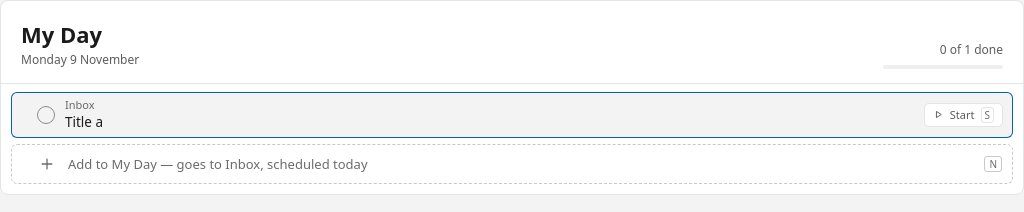
inline title edit › shows the new title at once, before the server answers
Check: the text "Monday 9 November" is shown, box [21,52,139,69]
Check: the text "Title a" is shown, box [65,113,103,132]
Press Enter
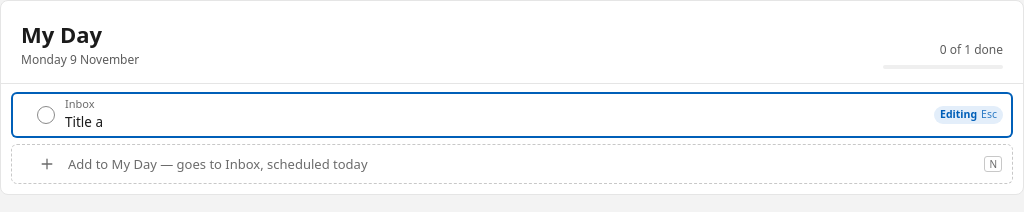
Replace the text in the field named "Task title" with "Renamed": (494, 122) [65,112,924,132]
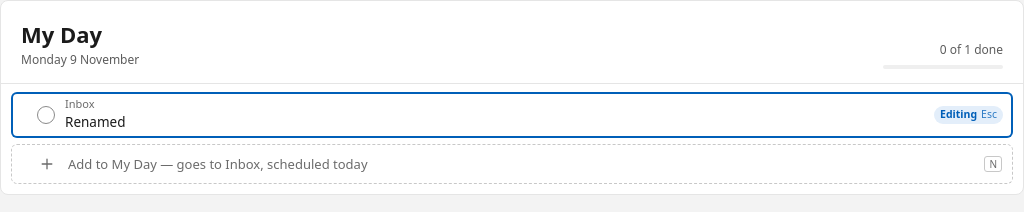
Press Escape in the field named "Task title", box [65,112,924,132]
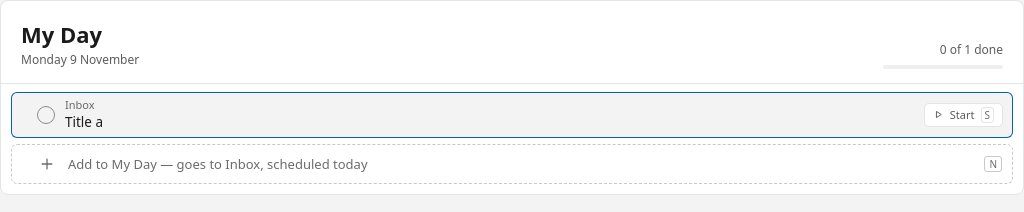
Check: the text "Renamed" is shown, box [65,113,103,132]
